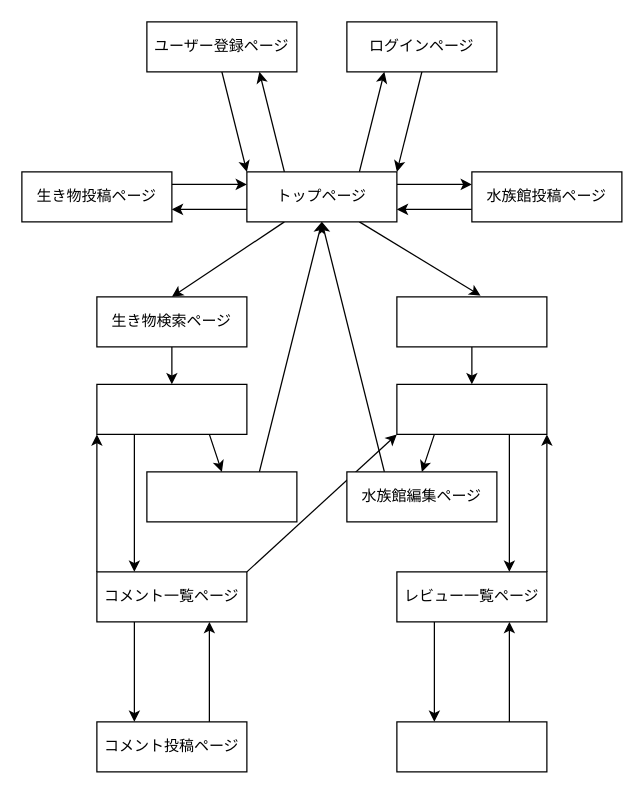
Some shapes in this 644 by 794 pixel diagram are drawn without their labels. Here are the shapes that lost their labels. From the top down, the box of each, then its label:
(396, 296, 547, 347): 水族館検索ページ
(96, 383, 247, 434): 生き物詳細ページ
(396, 383, 547, 434): 水族館詳細ページ
(146, 471, 297, 522): 生き物編集ページ
(396, 721, 547, 772): レビュー投稿ページ
